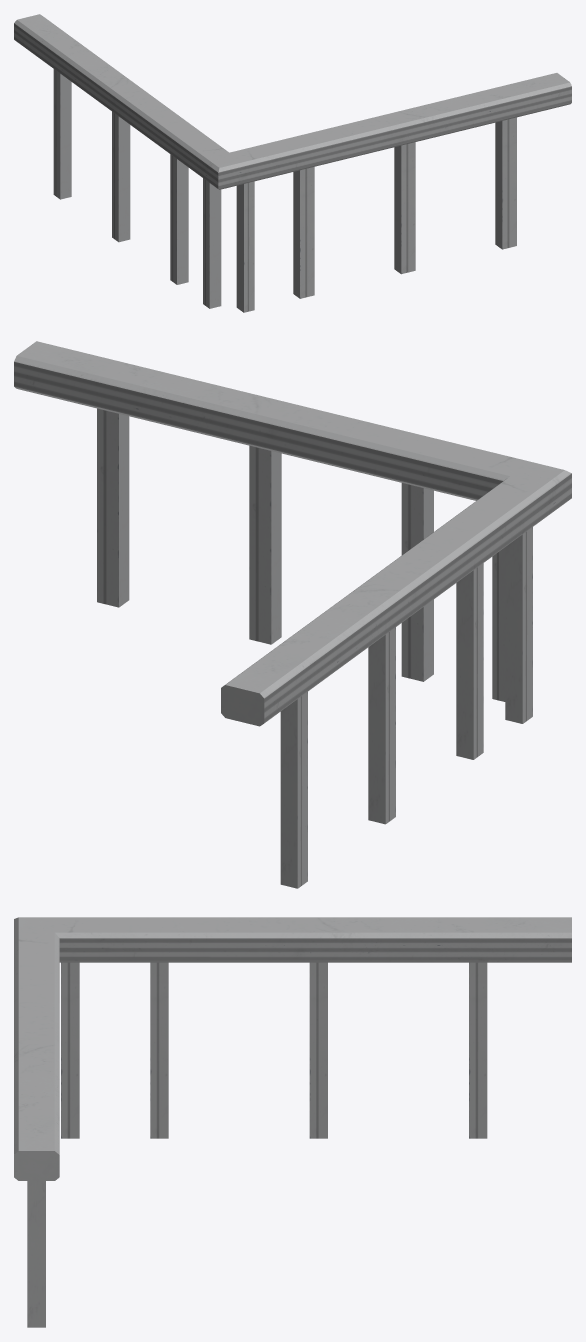
File: MB_Railing_Angle_01.fbx
3 renders of one model, top to bottom at view 1: azimuth 30°, elevation 25°; view 2: azimuth 150°, elevation 25°; view 3: azimuth 270°, elevation 25°, orthographic. The views are drawn at different scales.
Parts seen in each view (by area): view 1: MB_Railing_Angle_01; view 2: MB_Railing_Angle_01; view 3: MB_Railing_Angle_01.
Part boxes in pixels (x1,y1,x2,y2): MB_Railing_Angle_01: [14, 14, 571, 312]; MB_Railing_Angle_01: [14, 341, 571, 888]; MB_Railing_Angle_01: [14, 917, 571, 1327].
Size of the model in its own units: 199 by 82.68 by 199.
